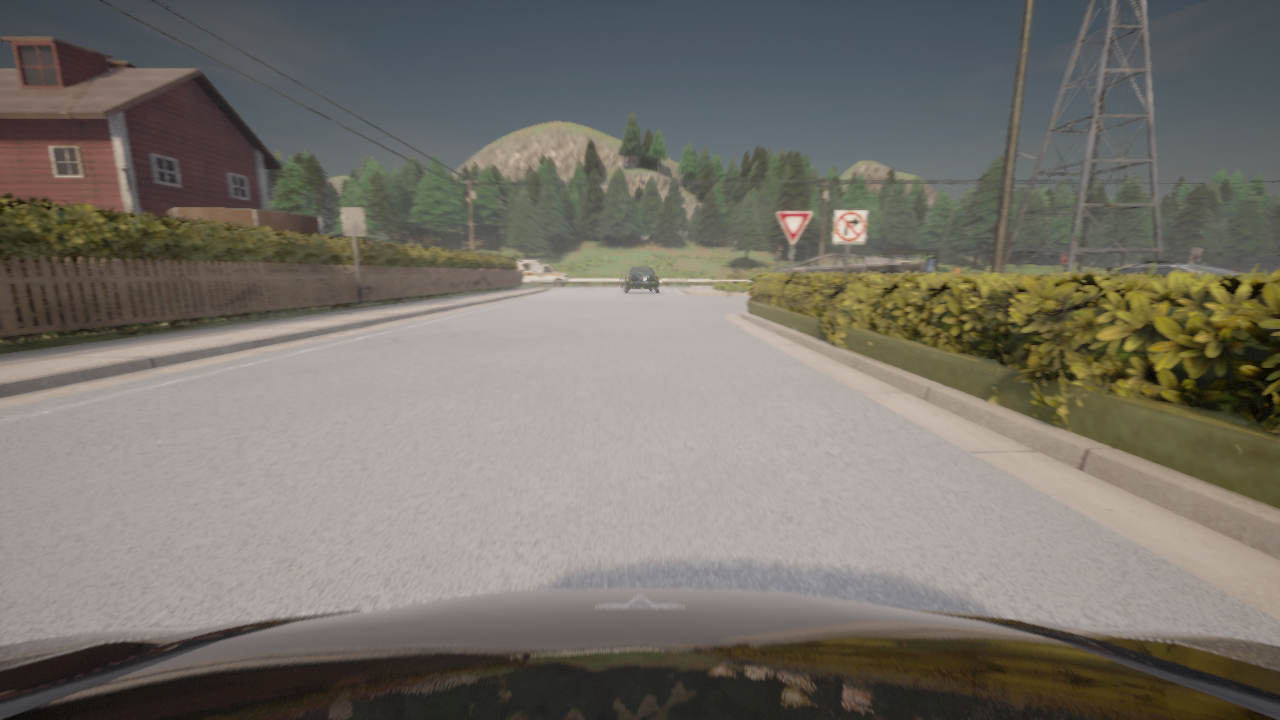cyclist: (0, 588, 1279, 719), (772, 253, 924, 275), (1106, 259, 1240, 276), (514, 258, 569, 287), (621, 265, 659, 293)
pedestrian: (952, 263, 959, 274)
